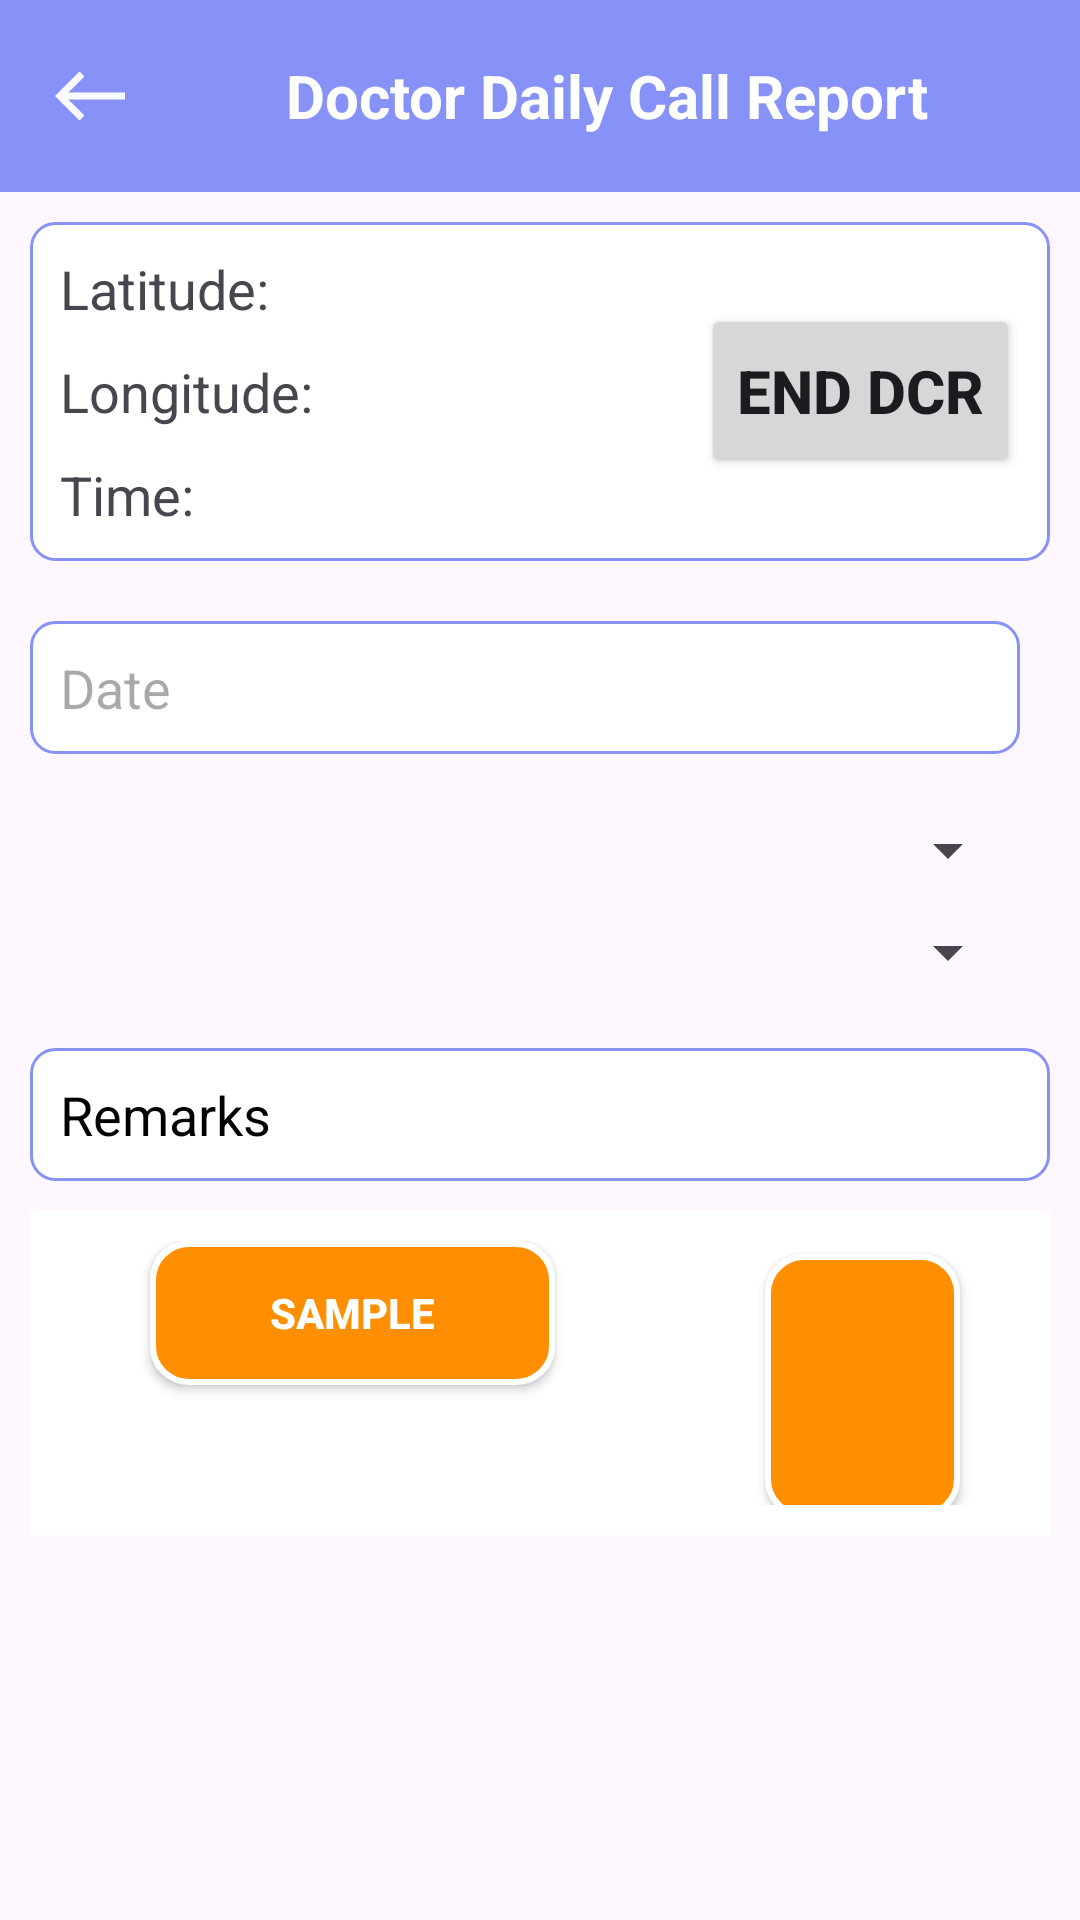

Icon bounding boxes for this 1080 × 1920 phone screenshot, format (x1, y1, x2, y2):
west: (55, 71, 125, 121)
